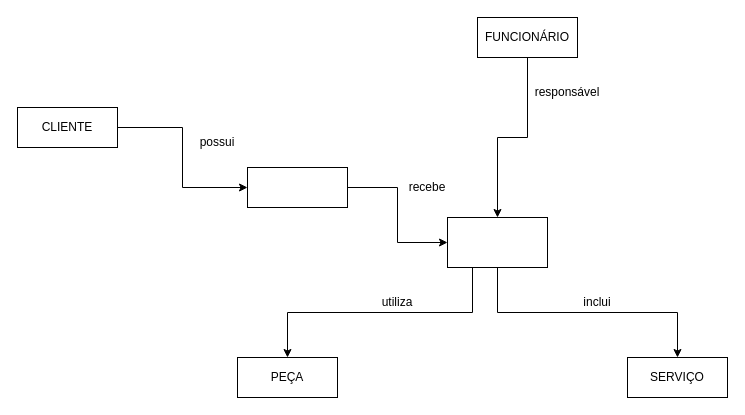
Image size: 745x415. Some labels were removed from this diagram. The shapes that lost their labels are listed below. From the top down, each one's box as (x1, y1, x2, y2) in pixels, then its label:
(246, 166, 348, 208): VEICULO
(446, 216, 548, 268): ORDEM DE SERVIÇO
